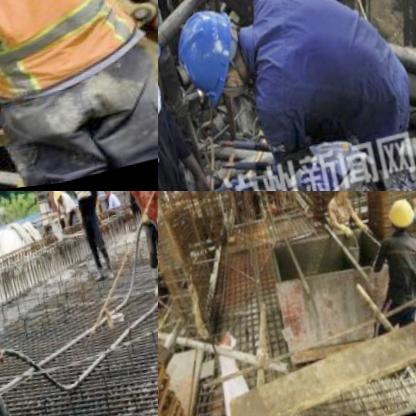helmet: (163, 0, 257, 120), (380, 202, 416, 249), (326, 191, 352, 210), (47, 191, 63, 210), (96, 191, 114, 206)
